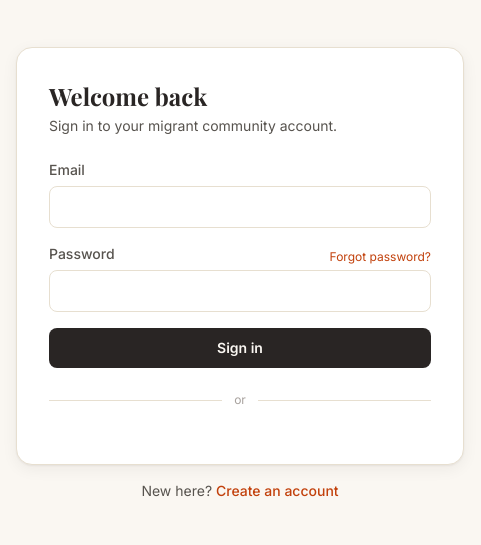
Scenario: LoginPage › shows backend error on failed login
In the field labelled "Email": (240, 207) x1=49 y1=186 x2=431 y2=228, type "a@b.com"
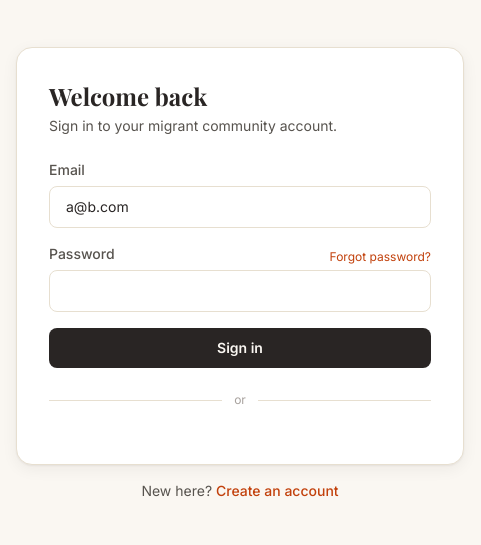
In the password field labelled "Password": (240, 291) x1=49 y1=270 x2=431 y2=312, type "Password1!"
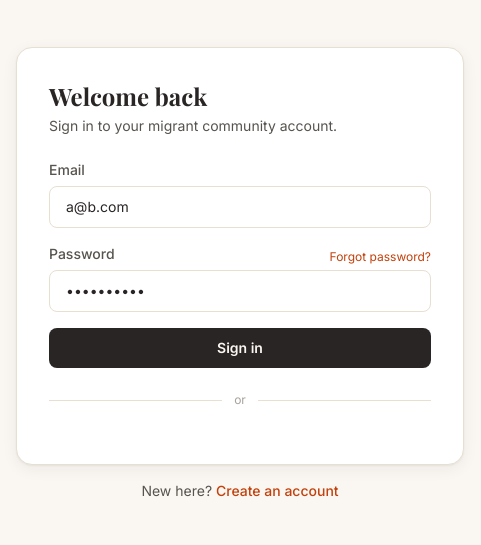
Click the button "Sign in": (240, 348) x1=49 y1=328 x2=431 y2=368
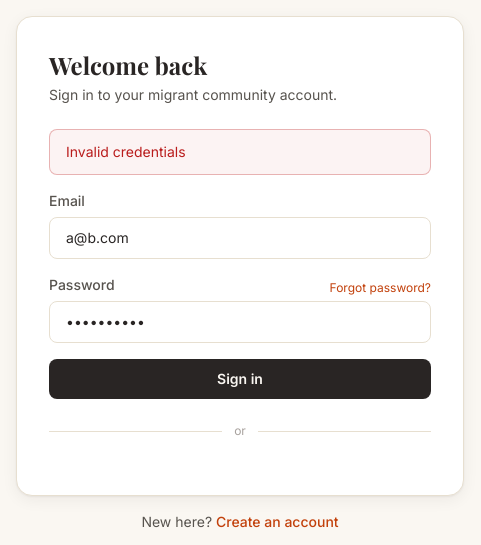
Check: the text "Invalid credentials" is shown, box x1=49 y1=129 x2=431 y2=175
